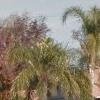Palm tree: (59, 3, 100, 96)
